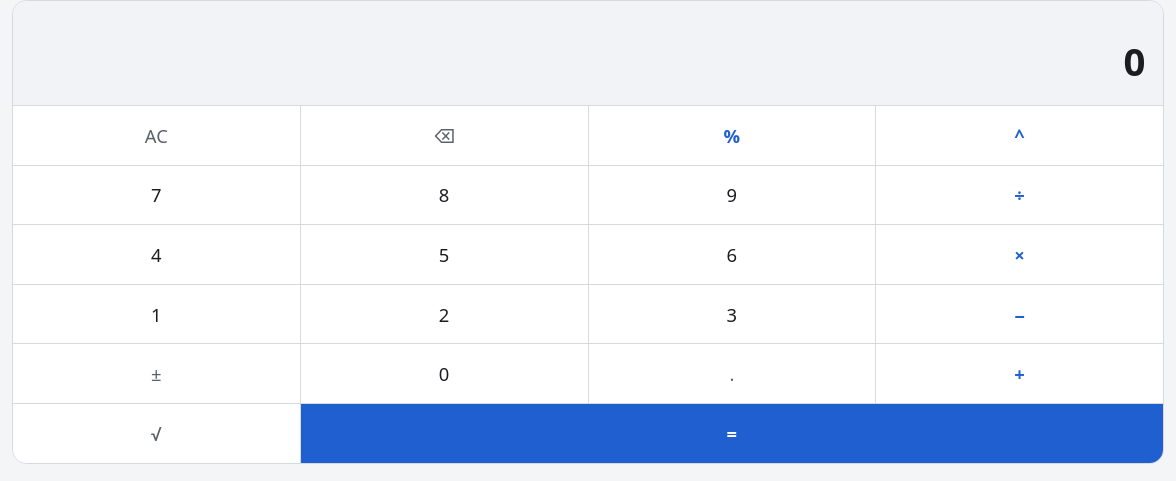
Scenario: Keypad › state left by one key for the next › does not report an exponent-form result as too large
The image size is (1176, 481).
Click the button "1": (156, 314) [13,285,300,343]
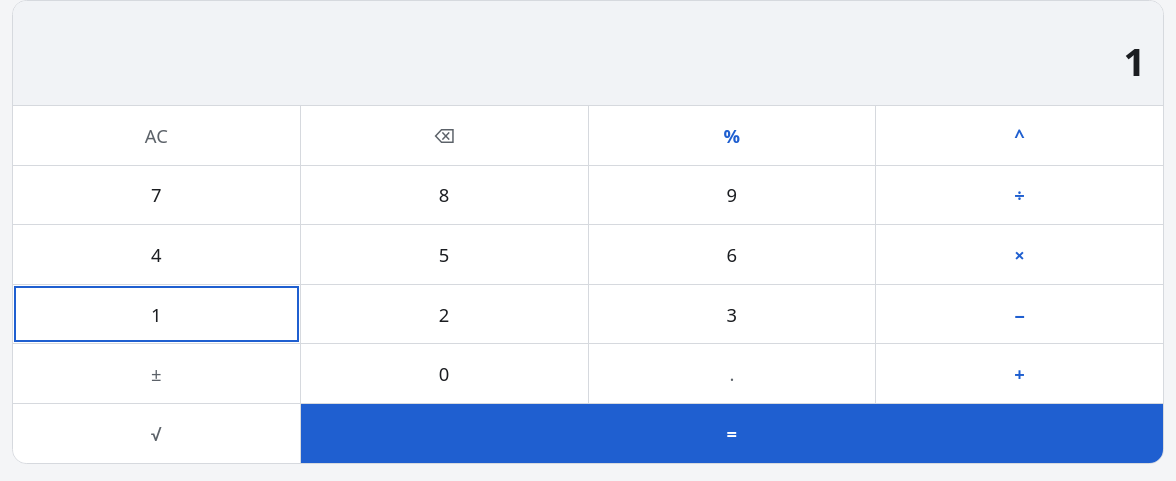
Click the button named "Divide": (1020, 195) [876,166,1163,224]
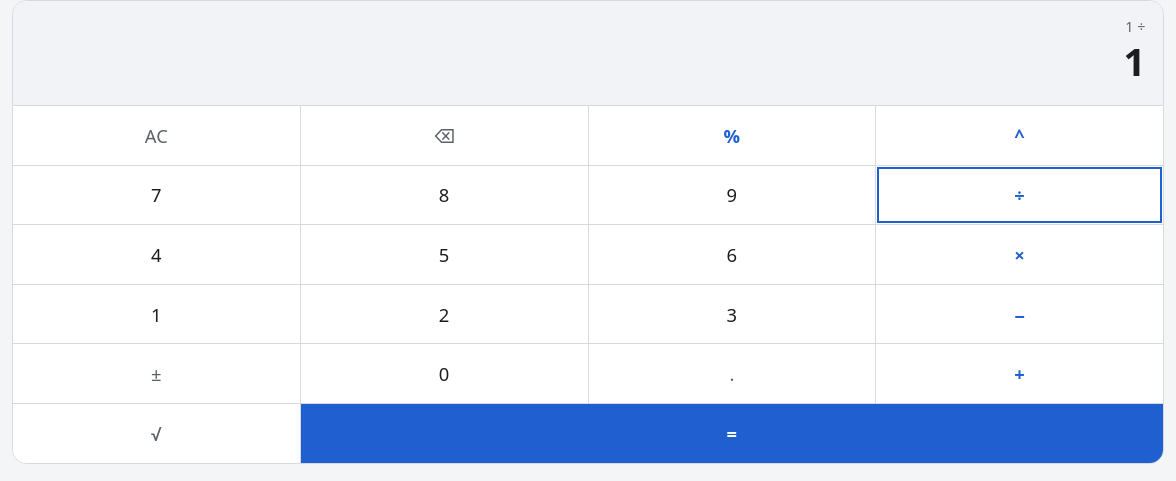
Click the button "7": (156, 195) [13,166,300,224]
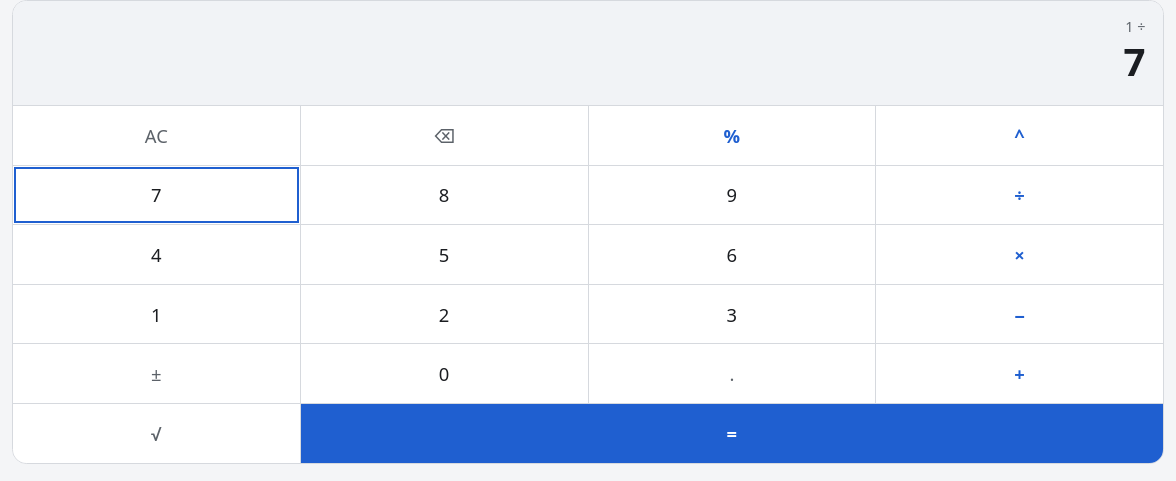
Click the button named "Equals": (732, 433) [301,404,1163,463]
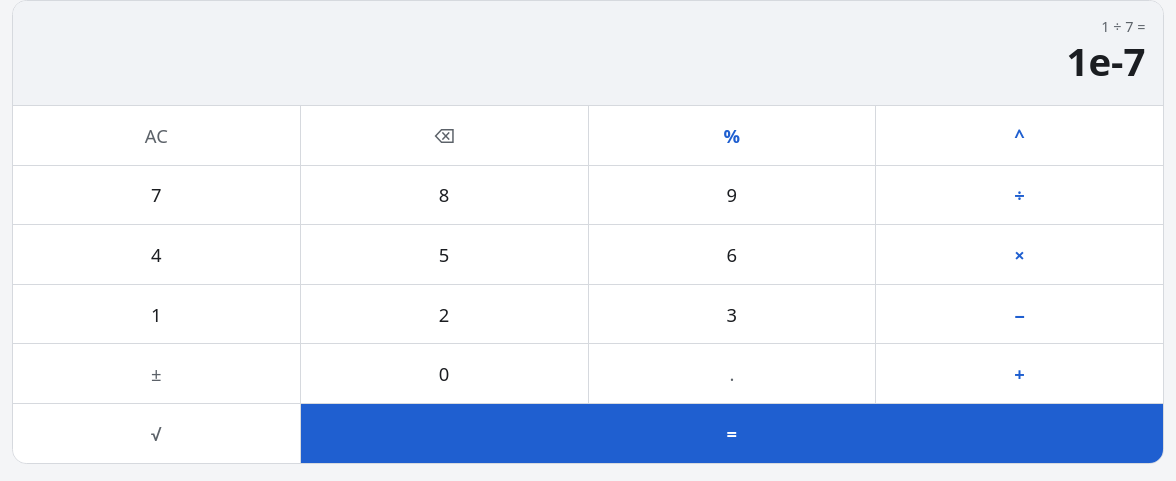
Now the text "1e-7" is shown, box [1066,39,1145,84]
Click the button named "Add": (1020, 374) [876,344,1163,403]
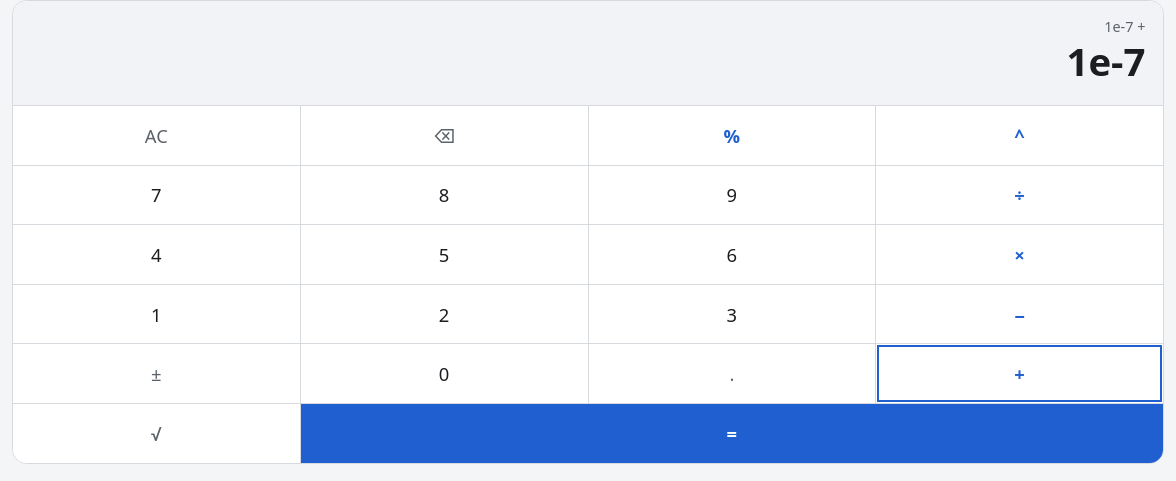
Now the text "1e-7 +" is shown, box [1104,17,1145,36]
